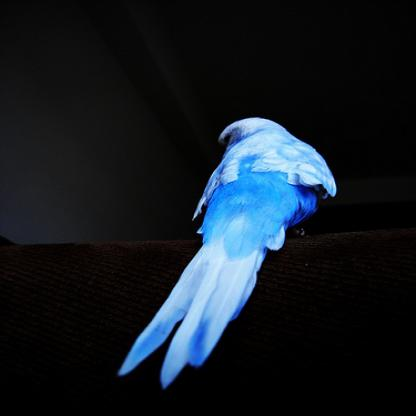bird: (119, 116, 337, 388)
